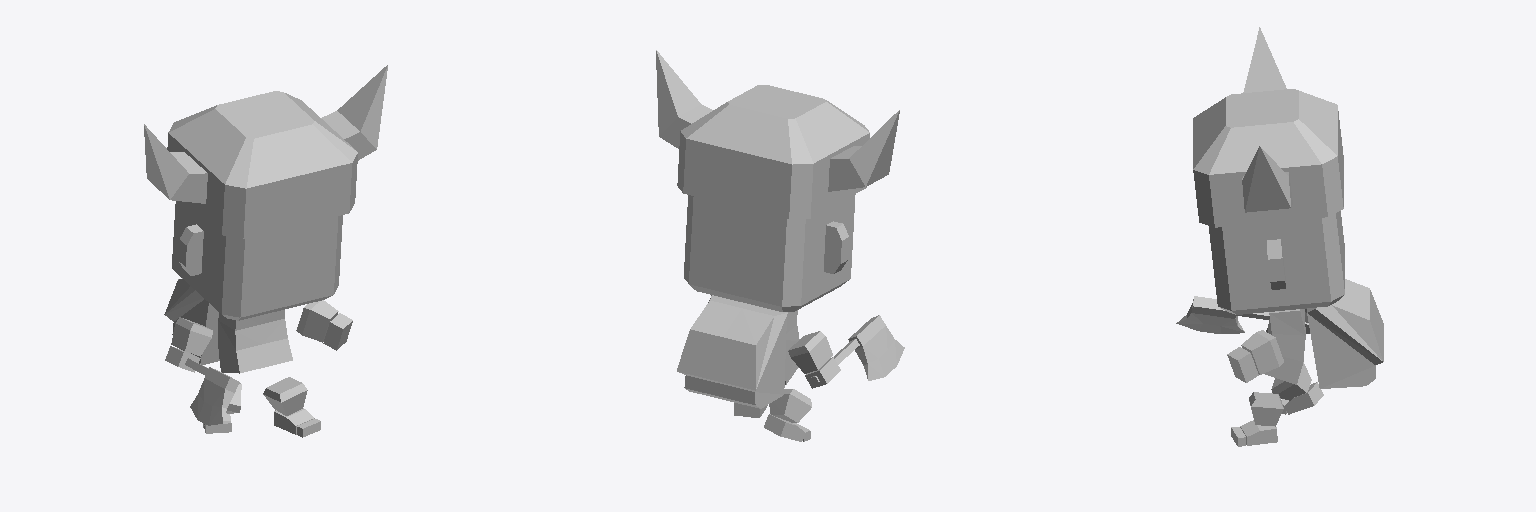
The model's file is mini_knight_000026.obj.
3 views of the same model, side by side, from view 1: azimuth 30°, elevation 25°; view 2: azimuth 150°, elevation 25°; view 3: azimuth 270°, elevation 25° (orthographic).
Parts seen in each view (by area): view 1: cap_Object01_Material__3, Mesh_objheadusOBJexport_Material, back_Object03_Material__3, axe_Object02_Material__3; view 2: cap_Object01_Material__3, Mesh_objheadusOBJexport_Material, back_Object03_Material__3, axe_Object02_Material__3; view 3: cap_Object01_Material__3, Mesh_objheadusOBJexport_Material, back_Object03_Material__3, axe_Object02_Material__3.
Boxes of the visible parts, x1,y1,x2,y2 form: cap_Object01_Material__3: [144, 65, 387, 238]; Mesh_objheadusOBJexport_Material: [165, 201, 352, 437]; back_Object03_Material__3: [164, 278, 219, 364]; axe_Object02_Material__3: [185, 358, 239, 425]; cap_Object01_Material__3: [656, 50, 899, 218]; Mesh_objheadusOBJexport_Material: [684, 194, 855, 441]; back_Object03_Material__3: [677, 295, 787, 408]; axe_Object02_Material__3: [810, 315, 904, 383]; cap_Object01_Material__3: [1193, 27, 1343, 227]; Mesh_objheadusOBJexport_Material: [1209, 211, 1344, 446]; back_Object03_Material__3: [1307, 279, 1383, 388]; axe_Object02_Material__3: [1176, 296, 1269, 333].
Bounding box in the file's own units: 1.94 × 2.57 × 1.42.